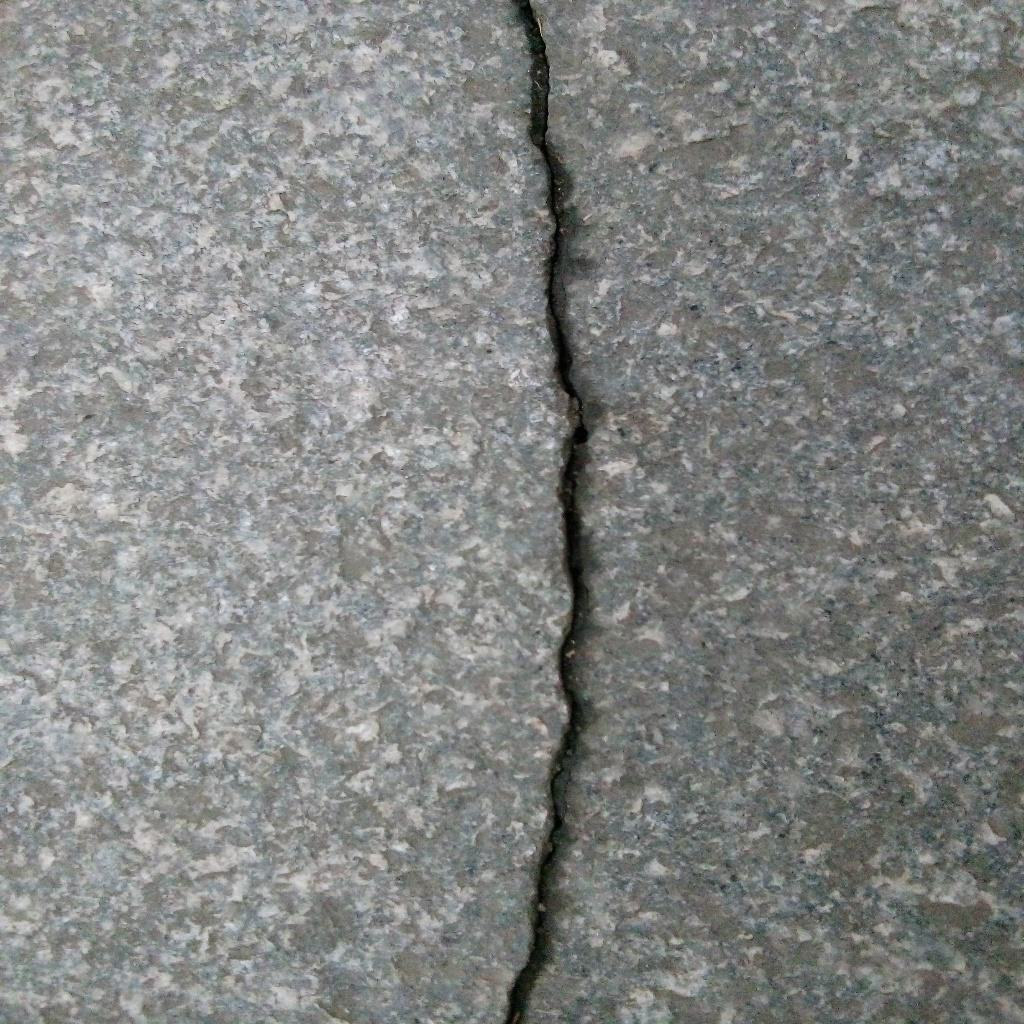Crack: (503, 1, 592, 1024)
